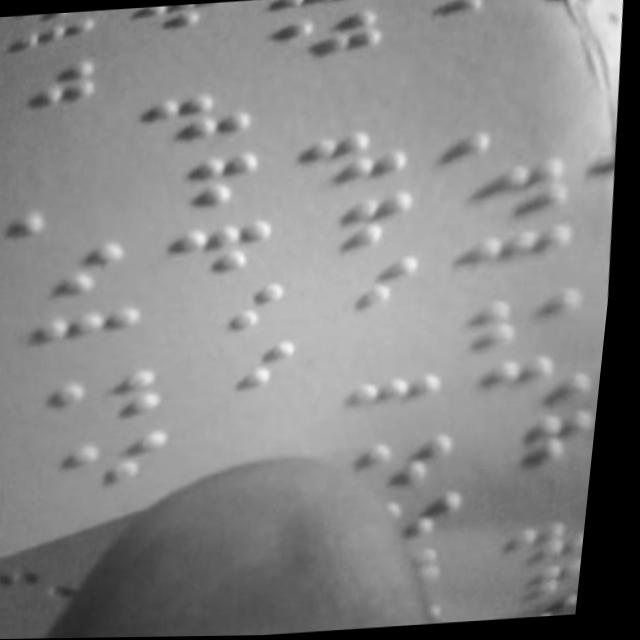braiile: (129, 86, 262, 157), (139, 149, 274, 216), (259, 4, 392, 72), (296, 187, 428, 252), (70, 434, 186, 507), (476, 285, 600, 353), (36, 315, 157, 384), (302, 255, 432, 318), (168, 215, 286, 284), (452, 156, 578, 220), (53, 373, 177, 438), (488, 349, 608, 416), (405, 0, 547, 56), (467, 225, 588, 290), (22, 251, 146, 314), (356, 430, 474, 495), (493, 407, 606, 474), (293, 128, 416, 189), (192, 340, 313, 401), (175, 281, 294, 338), (354, 374, 458, 428), (127, 1, 243, 48)
